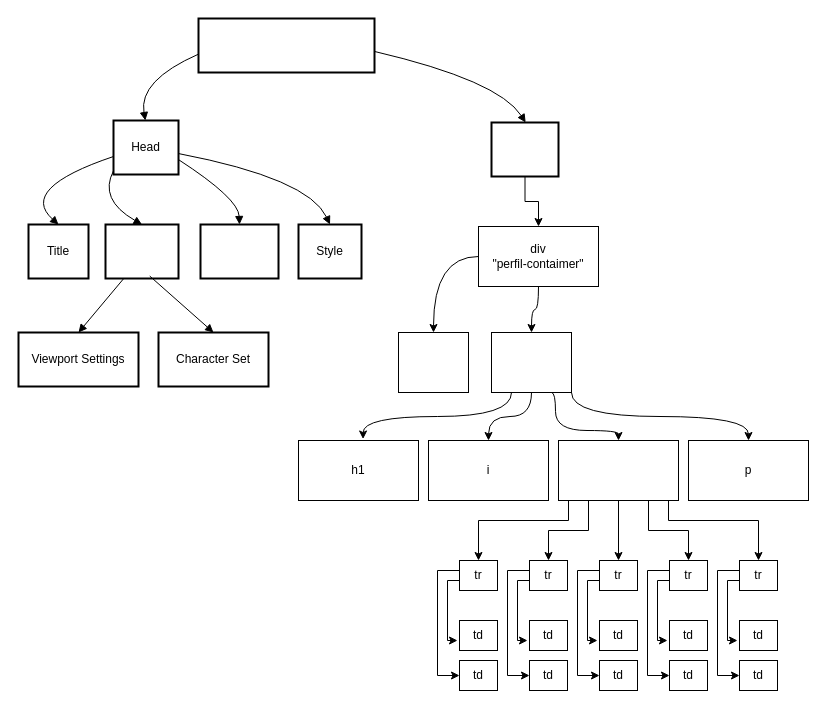
Some shapes in this 826 by 708 pixel diagram are drawn without their labels. The shapes that lost their labels are listed below. From the top down, each one's centre as x and y in pixels, then its label:
pixel 286 45: HTML Document
pixel 524 149: Body
pixel 141 251: Meta Tags
pixel 239 251: Link rel="icon"
pixel 433 362: img "perfil-img"
pixel 531 362: div "perfil"
pixel 618 470: table "info"
